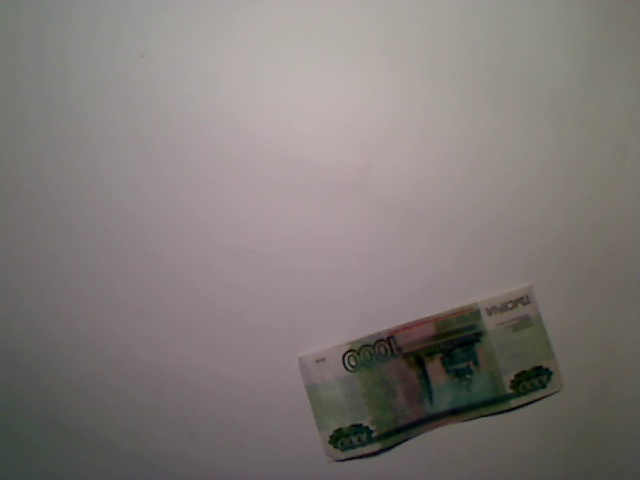banknotes: (293, 276, 572, 470)
